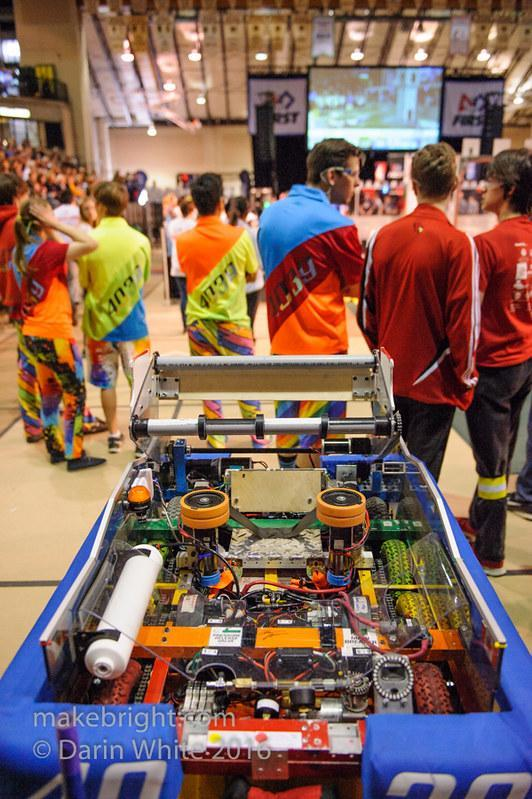robot: (0, 344, 532, 799)
